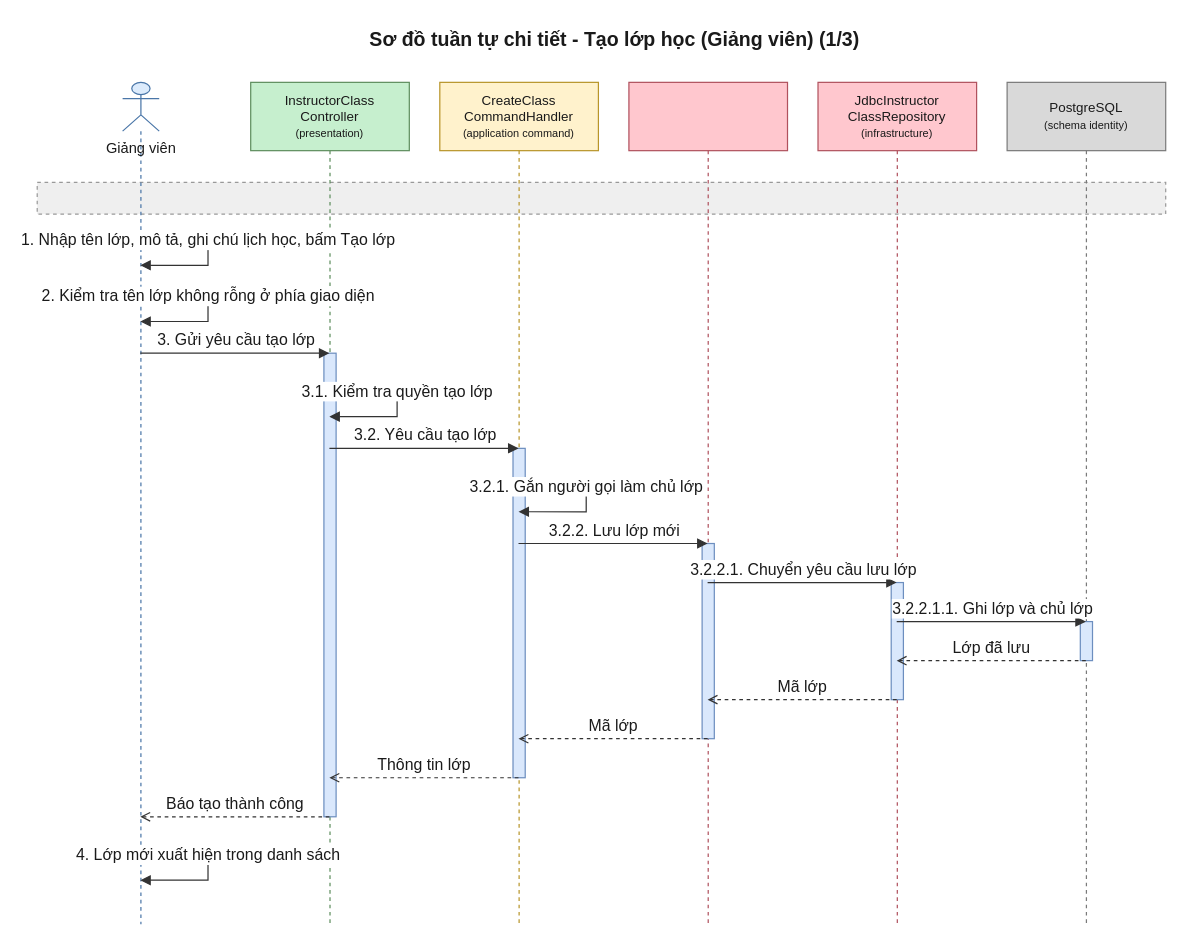
Image size: 1187x946. Some labels were removed from this diagram. Here are the shapes that lost their labels. From the top down, the box of each, then its label:
(36, 181, 1166, 214): Giai đoạn 1 - Tạo lớp học mới (F1-23)
(628, 81, 788, 924): InstructorClass Repository (domain output port)
